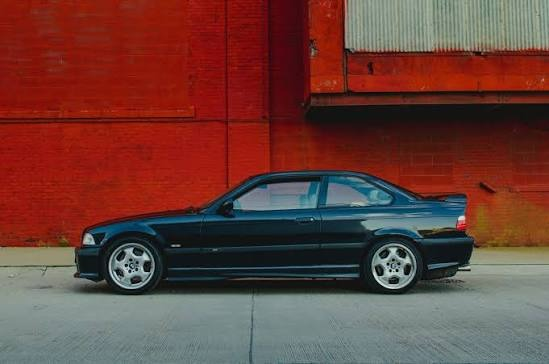car: (93, 174, 484, 294)
